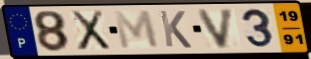3: (238, 8, 278, 50)
8: (32, 9, 72, 53)
K: (157, 9, 194, 50)
M: (112, 9, 162, 51)
V: (195, 7, 237, 50)
X: (69, 9, 113, 52)
